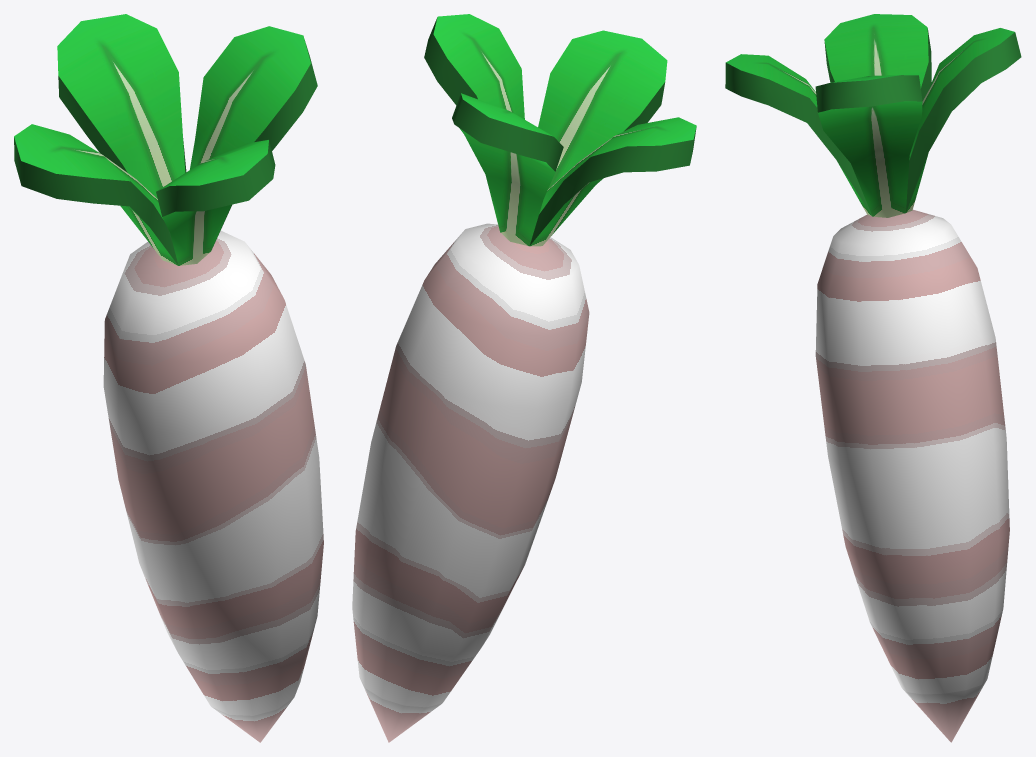
The model's file is Radish.fbx.
The picture shows the model from 3 angles, left to right: view 1: azimuth 30°, elevation 25°; view 2: azimuth 150°, elevation 25°; view 3: azimuth 270°, elevation 25°; orthographic projection. The views are drawn at different scales.
Visible parts, largest first — view 1: Radish; view 2: Radish; view 3: Radish.
Boxes of the visible parts, box(x1,y1,x2,y2) form: Radish: box(14, 14, 323, 742); Radish: box(352, 14, 696, 742); Radish: box(725, 14, 1021, 742).
Size of what is drawn, in the model's own units: 0.5418 by 1.2 by 0.4878.
